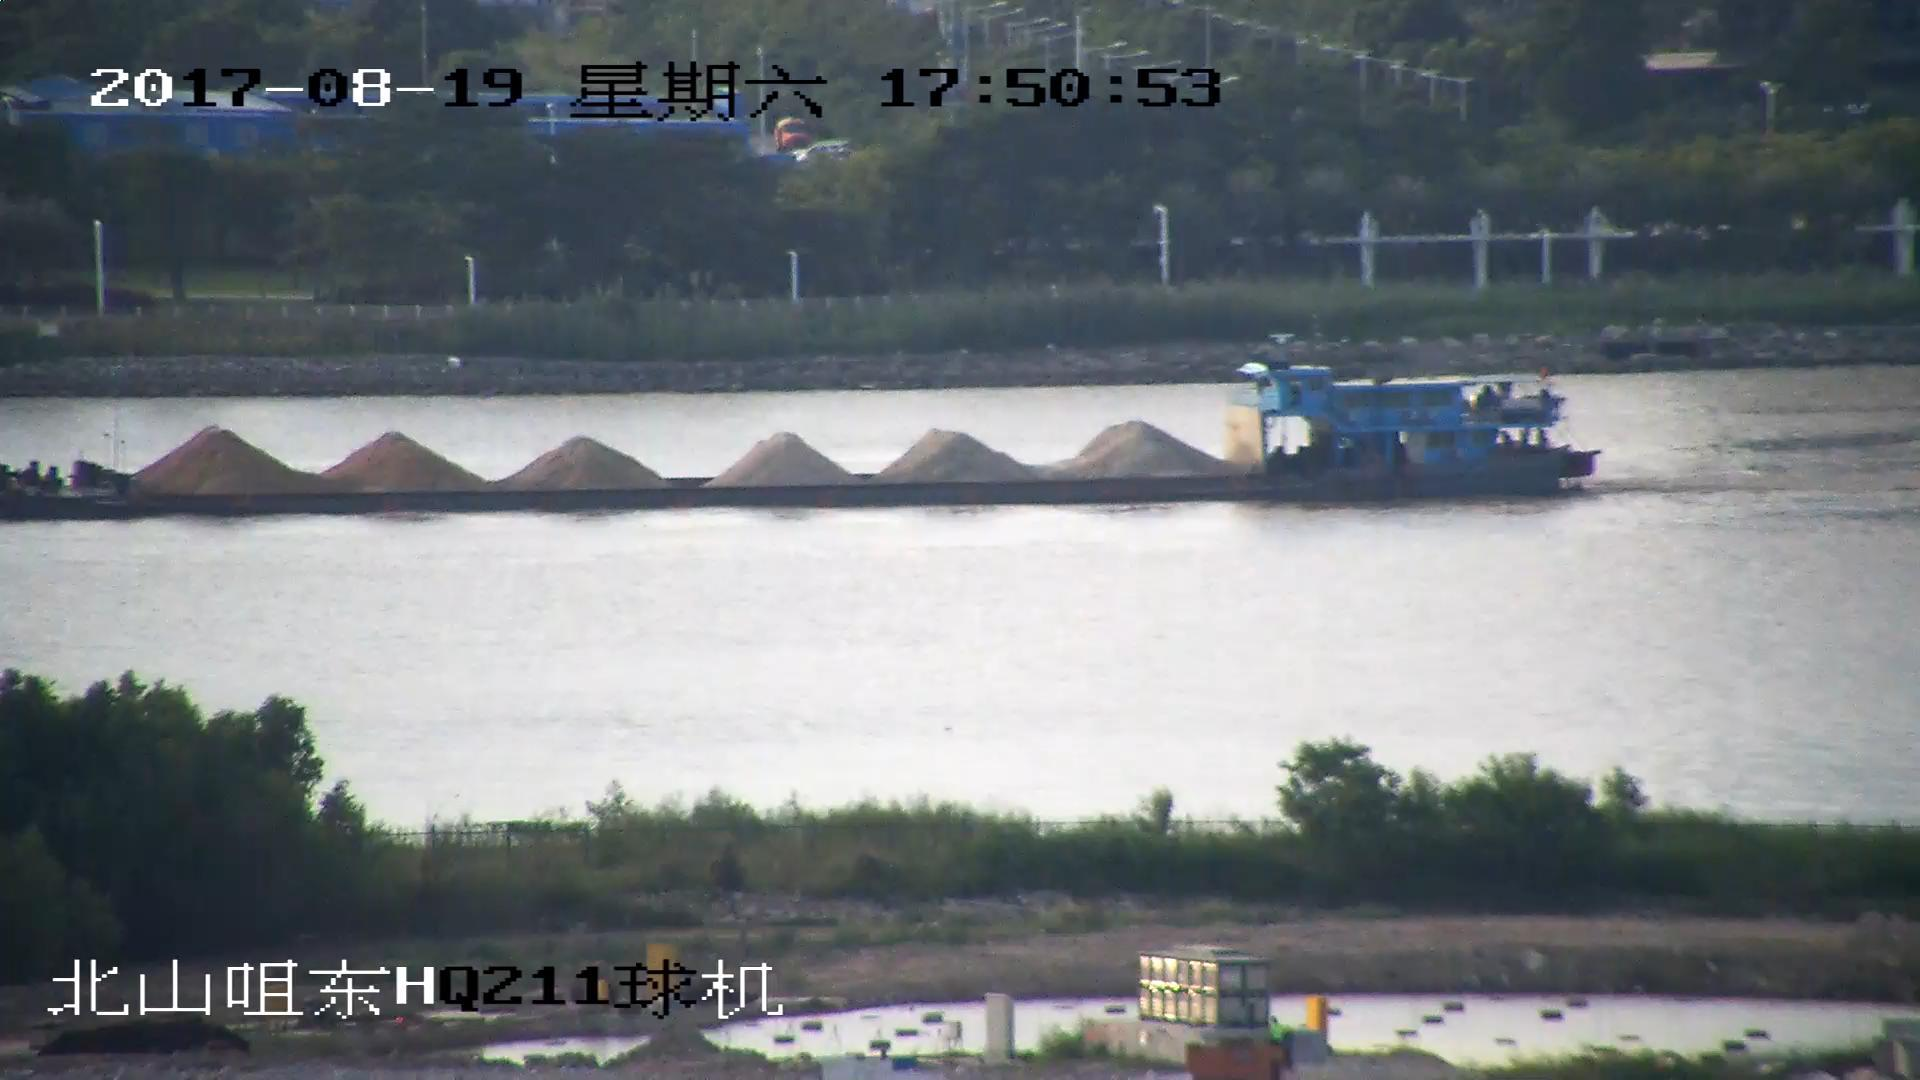Ship: (3, 332, 1601, 520)
